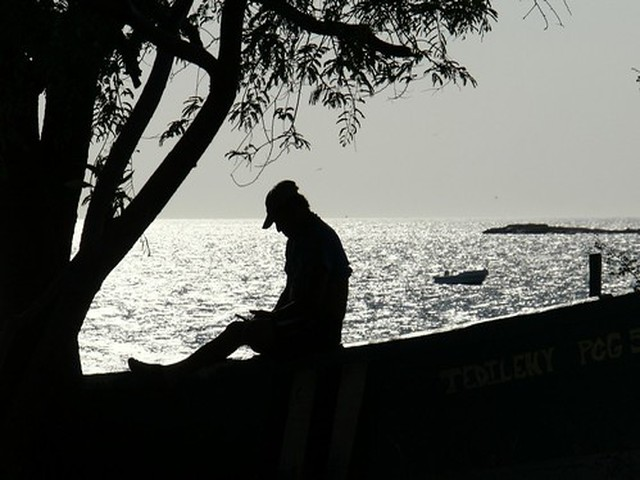Person: (178, 178, 364, 353)
